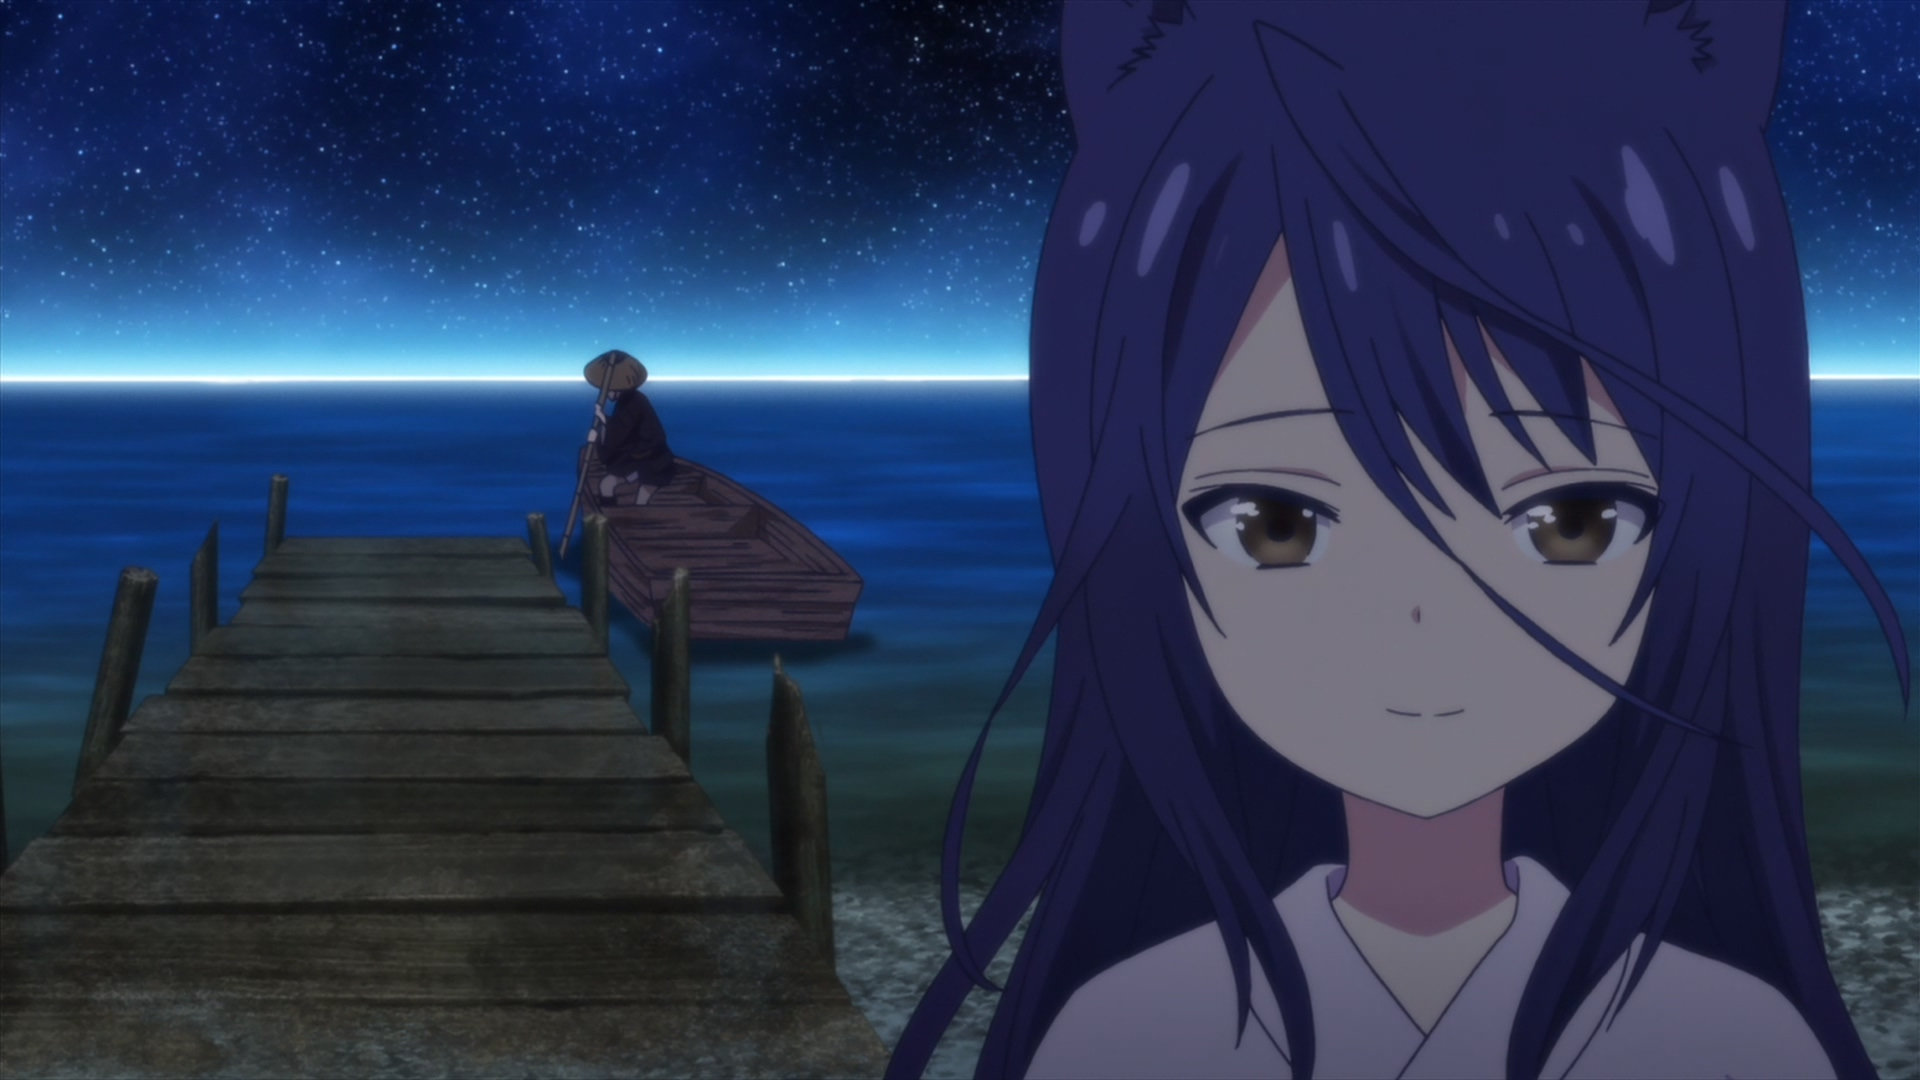其他: (584, 349, 678, 508)
皋: (887, 1, 1920, 1080)
